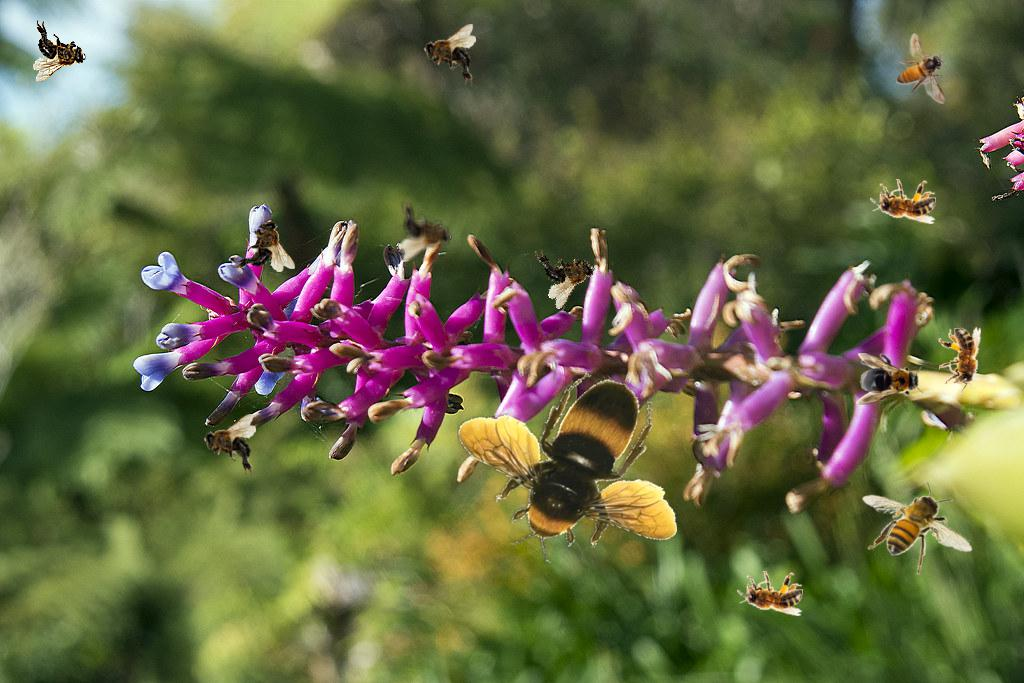Bee: (457, 372, 677, 563), (862, 481, 973, 575), (531, 233, 604, 311), (935, 325, 987, 396), (896, 33, 946, 104), (856, 353, 924, 405), (33, 20, 86, 82), (423, 24, 476, 86), (203, 414, 256, 476), (233, 219, 295, 272), (399, 200, 452, 262), (870, 179, 936, 224), (737, 571, 803, 616)
